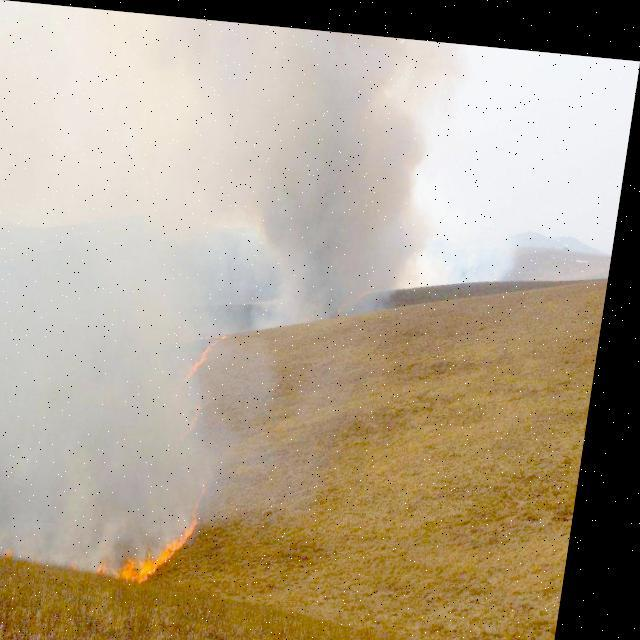Fire: (0, 486, 218, 587), (178, 316, 236, 432)
